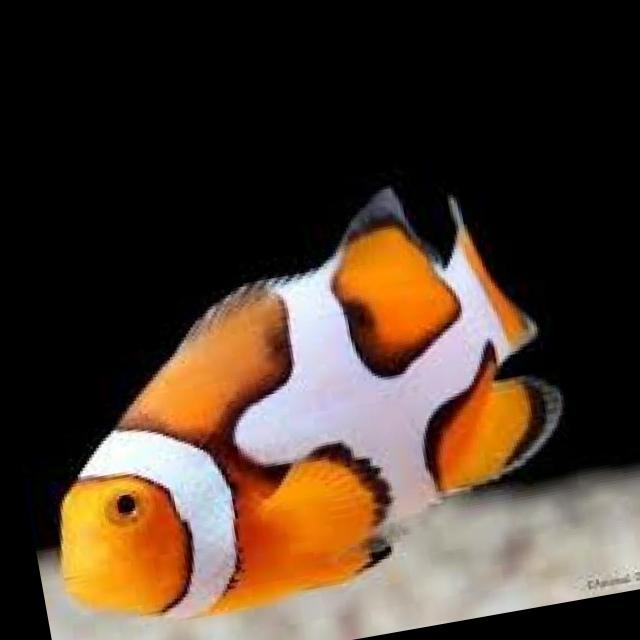ClownFish: (2, 158, 584, 620)
